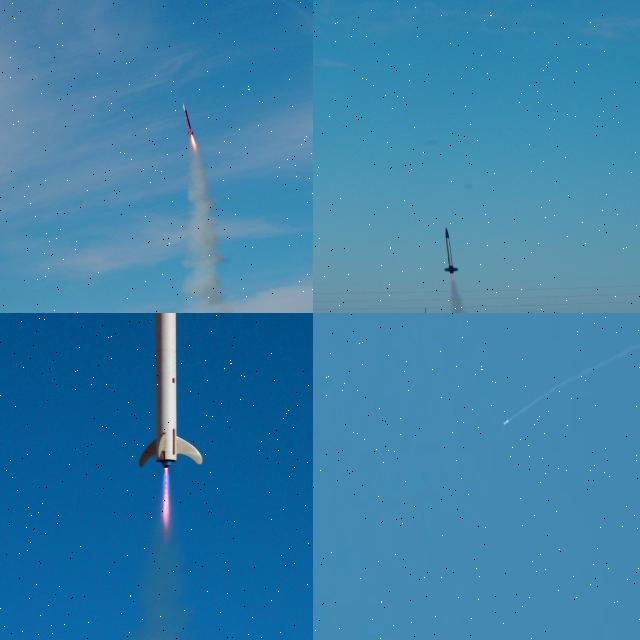Rocket: (137, 313, 203, 469), (443, 227, 459, 274), (182, 103, 195, 136), (504, 417, 509, 426)
